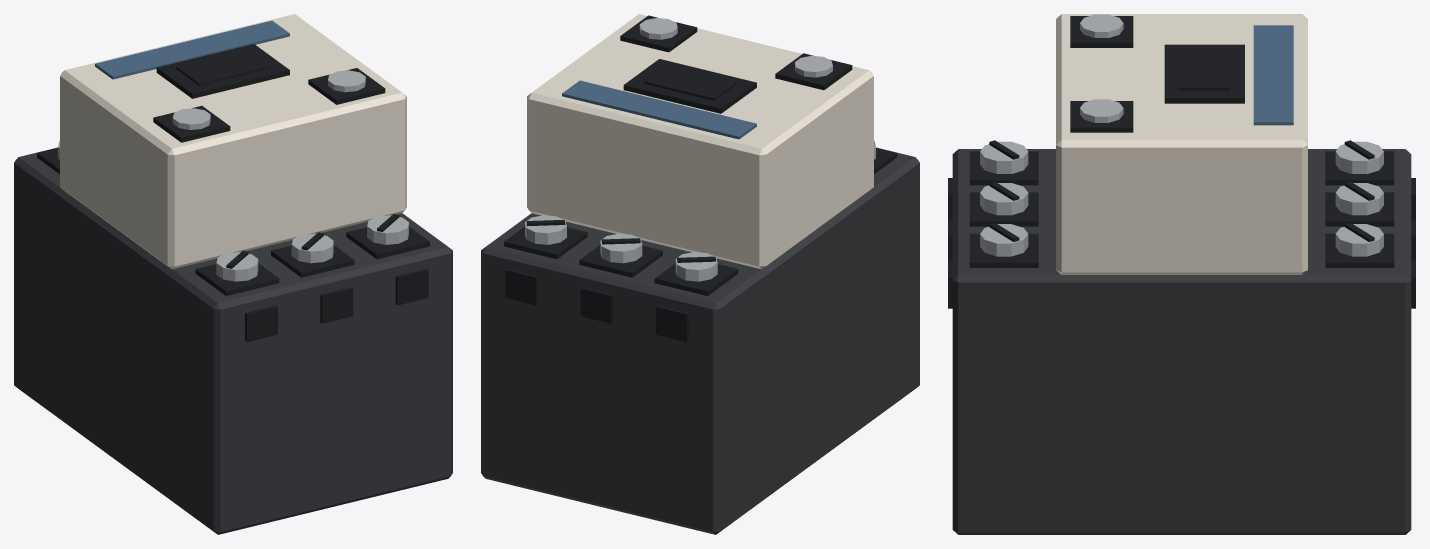
File: relay_basic.glb
The picture shows the model from 3 angles, left to right: view 1: azimuth 30°, elevation 25°; view 2: azimuth 150°, elevation 25°; view 3: azimuth 270°, elevation 25°; orthographic projection. The views are drawn at different scales.
Parts seen in each view (by area): view 1: relay_basic; view 2: relay_basic; view 3: relay_basic.
Boxes of the visible parts, <box> form: relay_basic: <box>14,14,452,534</box>; relay_basic: <box>481,14,919,534</box>; relay_basic: <box>948,14,1415,534</box>.
Size of the model in its own units: 0.054 by 0.0782 by 0.0816.
